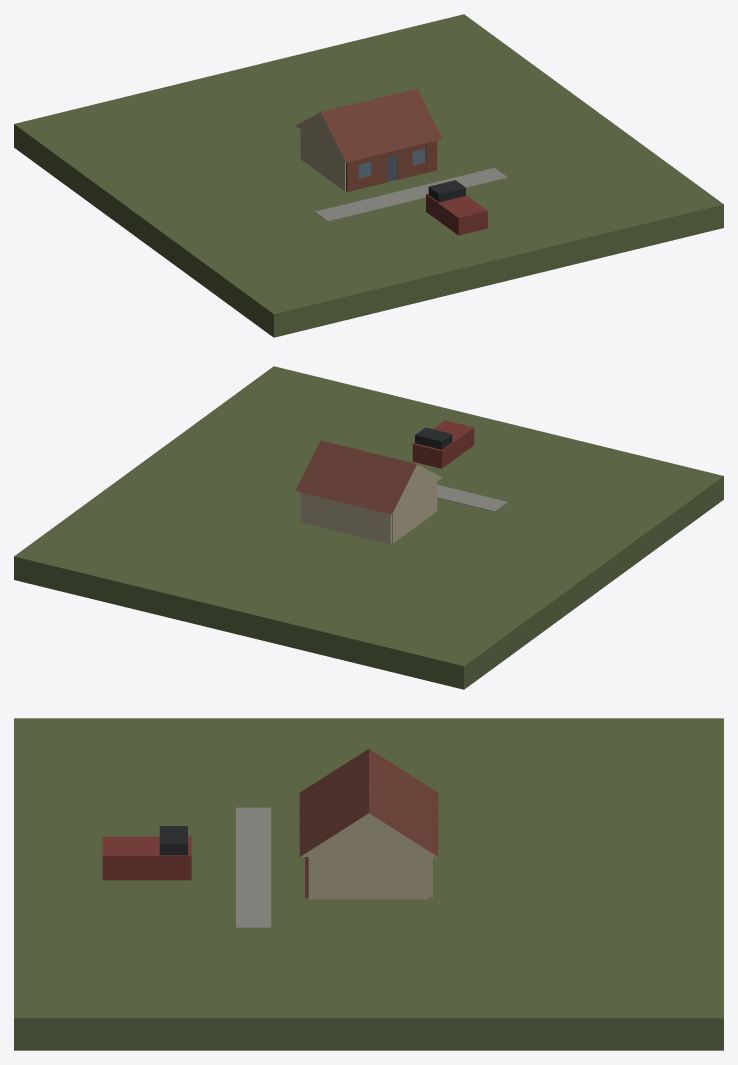
Rendered from house_destruction.glb.
3 renders of one model, top to bottom at view 1: azimuth 30°, elevation 25°; view 2: azimuth 150°, elevation 25°; view 3: azimuth 270°, elevation 25°, orthographic. The views are drawn at different scales.
Parts seen in each view (by area): view 1: Ground, Sidewalk, Truck, Roof_0, WallSideL, Roof_5, Roof_6, Roof_7, Roof_8, Roof_2, Roof_3, Roof_1 (+2 smaller); view 2: Ground, WallBack, Truck, Roof_0, WallSideL, Sidewalk, Roof_5, Roof_6, Roof_7, Roof_8, Roof_2, Roof_3 (+3 smaller); view 3: Ground, WallSideR, Sidewalk, Roof_8, Truck, Roof_3, Roof_0, Roof_4, Roof_5, Roof_7, Roof_1, Roof_2 (+2 smaller).
Part boxes in pixels (<box>): Ground: <box>14,14,723,337</box>; Sidewalk: <box>315,168,507,221</box>; Truck: <box>426,193,487,235</box>; Roof_0: <box>295,109,356,162</box>; WallSideL: <box>300,130,345,191</box>; Roof_5: <box>374,96,410,149</box>; Roof_6: <box>385,93,420,146</box>; Roof_7: <box>396,91,431,144</box>; Roof_8: <box>406,88,442,141</box>; Roof_2: <box>342,104,377,157</box>; Roof_3: <box>353,101,388,154</box>; Roof_1: <box>331,107,367,159</box>; Ground: <box>14,366,723,689</box>; WallBack: <box>300,492,391,544</box>; Truck: <box>412,420,474,468</box>; Roof_0: <box>381,461,442,514</box>; WallSideL: <box>392,482,437,543</box>; Sidewalk: <box>437,485,507,511</box>; Roof_5: <box>327,448,363,501</box>; Roof_6: <box>317,445,352,498</box>; Roof_7: <box>306,443,341,496</box>; Roof_8: <box>295,440,331,493</box>; Roof_2: <box>360,456,395,509</box>; Roof_3: <box>349,453,384,506</box>; Ground: <box>14,718,723,1050</box>; WallSideR: <box>308,857,429,899</box>; Sidewalk: <box>236,807,271,928</box>; Roof_8: <box>299,806,438,856</box>; Truck: <box>102,836,191,880</box>; Roof_3: <box>299,770,438,820</box>; Roof_0: <box>299,749,438,799</box>; Roof_4: <box>299,777,438,827</box>; Roof_5: <box>299,785,438,835</box>; Roof_7: <box>299,799,438,849</box>; Roof_1: <box>299,756,438,806</box>; Roof_2: <box>299,763,438,813</box>.
Bounding box in the file's own units: 40 × 7.44 × 40.
